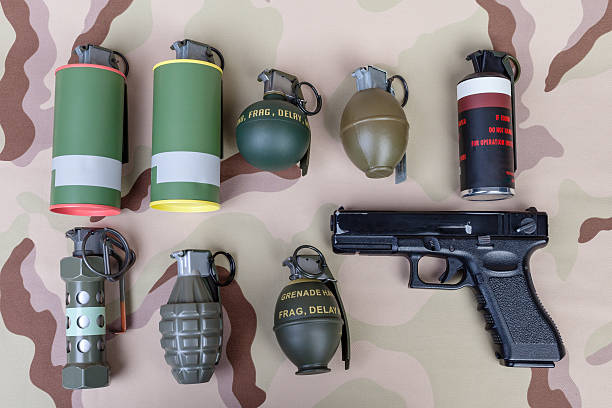e1: (49, 43, 130, 213), (149, 38, 223, 213), (59, 227, 130, 390), (272, 245, 356, 382), (159, 248, 237, 385), (457, 51, 522, 199), (233, 71, 323, 174), (341, 65, 412, 184)
